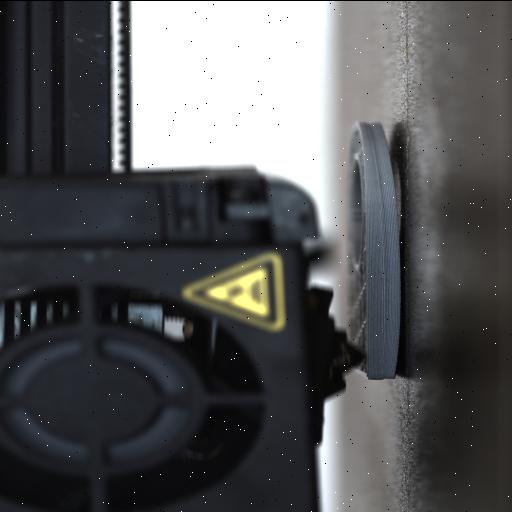warp: (350, 108, 410, 180), (381, 344, 405, 388)
